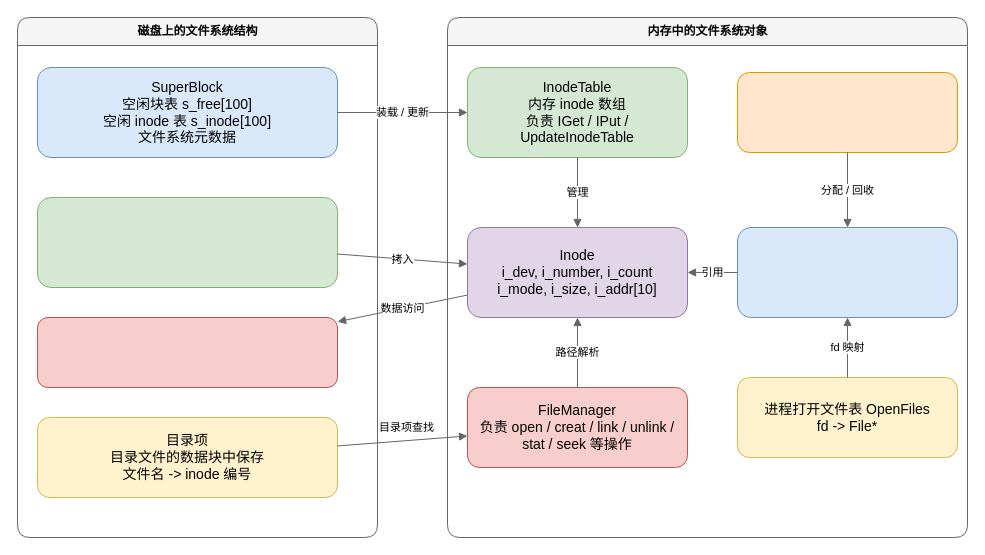
This 985x555 diagram has some shape labels left out. The centre of each missing label's shape, as x and y in pixels:
DiskInode 区 每个磁盘 inode 记录 文件类型、大小、地址项 d_addr[10]: point (187, 242)
File f_flag, f_count, f_offset f_inode -> Inode: point (847, 272)
OpenFileTable 系统打开文件表 m_File[NFILE]: point (847, 112)
数据块区 保存普通文件内容、目录内容 以及索引块等: point (187, 352)
